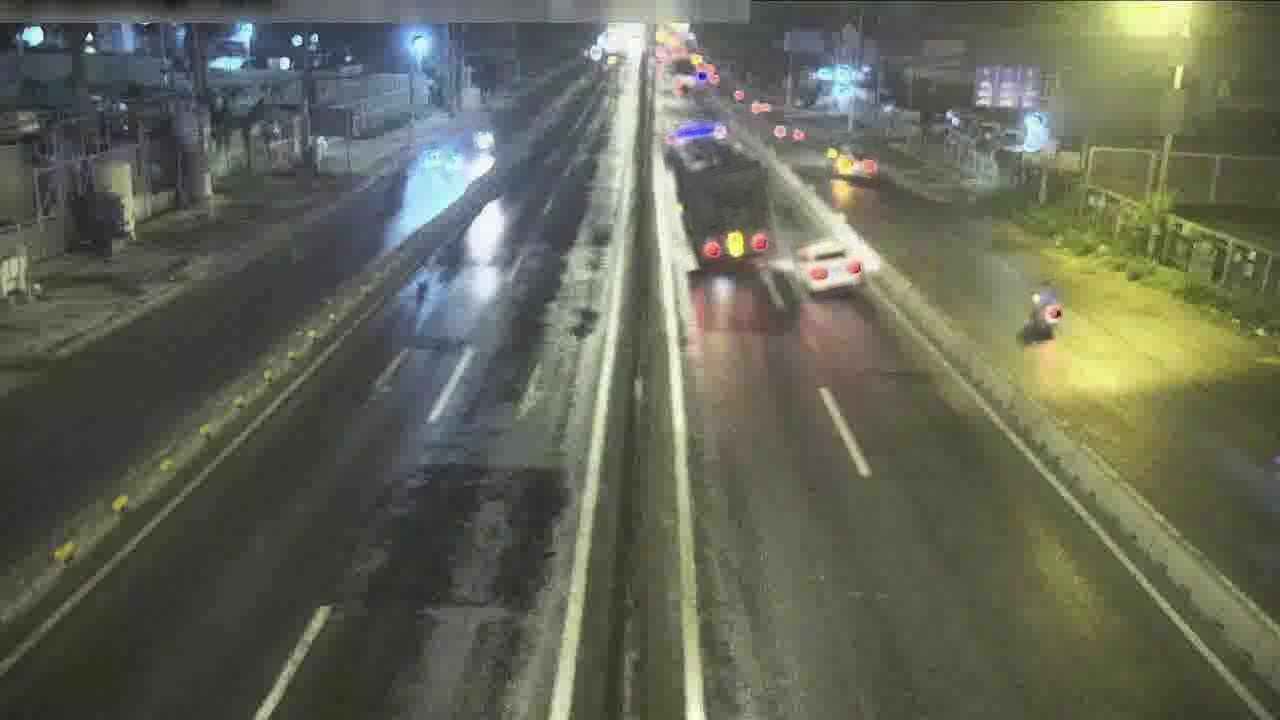Car: (795, 238, 867, 296), (665, 119, 726, 167), (825, 142, 879, 184), (1025, 282, 1063, 340)
Motorcyclist: (415, 142, 443, 175), (473, 129, 495, 152), (445, 149, 463, 174)
Truck: (664, 121, 775, 270)
